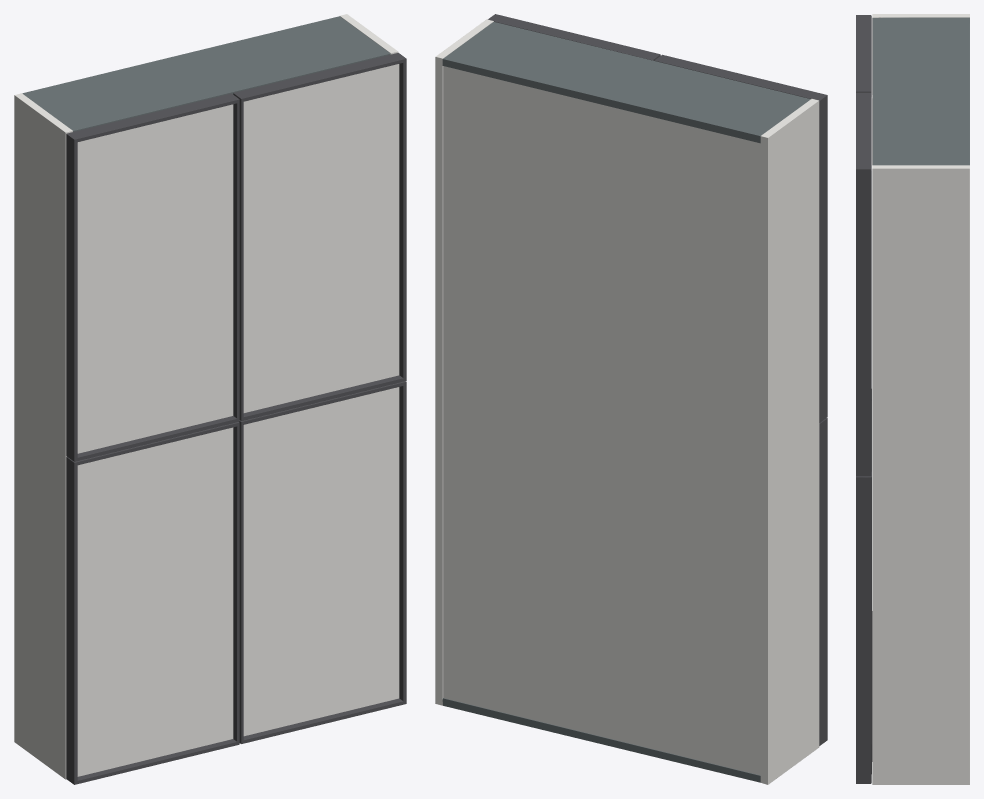
3 renders of one model, left to right at view 1: azimuth 30°, elevation 25°; view 2: azimuth 150°, elevation 25°; view 3: azimuth 270°, elevation 25°, orthographic. The views are drawn at different scales.
Visible parts, largest first — view 1: AT12; view 2: AT12; view 3: AT12.
Part boxes in pixels (left/top/right/bottom): AT12: left=14, top=14, right=406, bottom=784; AT12: left=435, top=14, right=827, bottom=784; AT12: left=856, top=14, right=969, bottom=784.
Bounding box in the file's own units: 0.807 × 1.5 × 0.2512.
4 materials, 2 textured.
